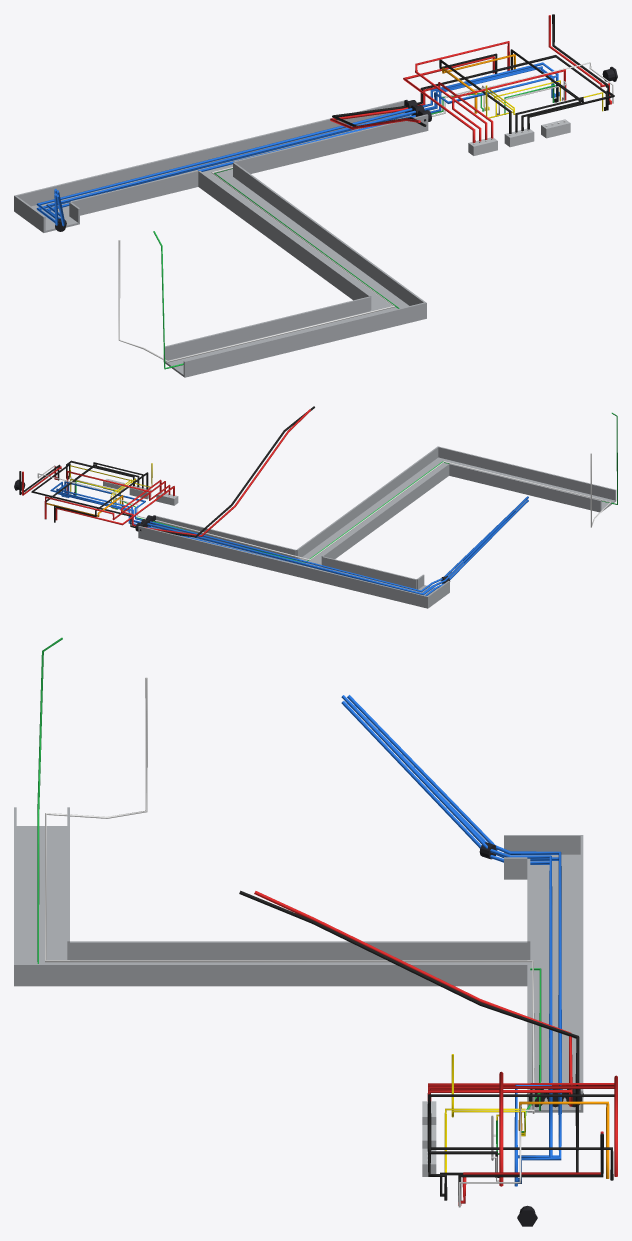
File: control_box_wiring.fbx
3 views of the same model, one above another, from view 1: azimuth 30°, elevation 25°; view 2: azimuth 150°, elevation 25°; view 3: azimuth 270°, elevation 25° (orthographic). The views are drawn at different scales.
Parts seen in each view (by area): view 1: cable_duct, wire_a4988_motor_1b, wire_a4988_motor_1a, wire_gpio33_from_limit_switch, wire_pump_negative_to_mosfet_drain, wire_a4988_motor_2b, wire_a4988_motor_2a, wire_terminal_12v_to_pump_positive, wire_gpio27_from_ir_sensor, wire_terminal_12v_to_l7805_in, wire_adapter_12v_to_terminal, wire_terminal_12v_to_a4988_vmot (+1 smaller); view 2: cable_duct, wire_a4988_motor_1b, wire_a4988_motor_1a, wire_gpio33_from_limit_switch, wire_pump_negative_to_mosfet_drain, wire_terminal_12v_to_pump_positive, wire_a4988_motor_2b, wire_a4988_motor_2a, wire_gpio27_from_ir_sensor, wire_terminal_12v_to_l7805_in, wire_adapter_12v_to_terminal, wire_terminal_12v_to_a4988_vmot (+1 smaller); view 3: cable_duct, wire_gpio33_from_limit_switch, wire_a4988_motor_1b, wire_a4988_motor_1a, wire_pump_negative_to_mosfet_drain, wire_terminal_12v_to_pump_positive, wire_gpio27_from_ir_sensor, wire_a4988_motor_2a, wire_terminal_12v_to_l7805_in, wire_buzzer_negative.
Boxes of the visible parts, <box> form: cable_duct: <box>14,99,428,377</box>; wire_a4988_motor_1b: <box>36,62,559,220</box>; wire_a4988_motor_1a: <box>46,75,557,221</box>; wire_gpio33_from_limit_switch: <box>118,85,488,362</box>; wire_pump_negative_to_mosfet_drain: <box>332,55,607,126</box>; wire_a4988_motor_2b: <box>36,66,553,225</box>; wire_a4988_motor_2a: <box>46,66,555,226</box>; wire_terminal_12v_to_pump_positive: <box>330,82,493,138</box>; wire_gpio27_from_ir_sensor: <box>153,92,483,369</box>; wire_terminal_12v_to_l7805_in: <box>415,41,509,139</box>; wire_adapter_12v_to_terminal: <box>403,56,494,142</box>; wire_terminal_12v_to_a4988_vmot: <box>452,69,566,141</box>; cable_duct: <box>138,446,616,608</box>; wire_a4988_motor_1b: <box>50,481,527,595</box>; wire_a4988_motor_1a: <box>64,481,528,592</box>; wire_gpio33_from_limit_switch: <box>110,453,611,560</box>; wire_pump_negative_to_mosfet_drain: <box>31,406,314,537</box>; wire_terminal_12v_to_pump_positive: <box>120,409,310,536</box>; wire_a4988_motor_2b: <box>55,483,527,595</box>; wire_a4988_motor_2a: <box>56,484,528,592</box>; wire_gpio27_from_ir_sensor: <box>115,412,617,562</box>; wire_terminal_12v_to_l7805_in: <box>44,481,165,520</box>; wire_adapter_12v_to_terminal: <box>55,486,174,525</box>; wire_terminal_12v_to_a4988_vmot: <box>66,471,170,500</box>; cable_duct: <box>14,807,583,1112</box>; wire_gpio33_from_limit_switch: <box>45,677,534,1113</box>; wire_a4988_motor_1b: <box>347,695,561,1186</box>; wire_a4988_motor_1a: <box>341,695,552,1184</box>; wire_pump_negative_to_mosfet_drain: <box>239,890,579,1196</box>; wire_terminal_12v_to_pump_positive: <box>254,891,572,1106</box>; wire_gpio27_from_ir_sensor: <box>37,637,541,1132</box>; wire_a4988_motor_2a: <box>341,701,552,1180</box>; wire_terminal_12v_to_l7805_in: <box>428,1075,617,1176</box>; wire_buzzer_negative: <box>458,1133,603,1201</box>.
Bounding box in the file's own units: 1.05 × 0.216 × 0.647.
